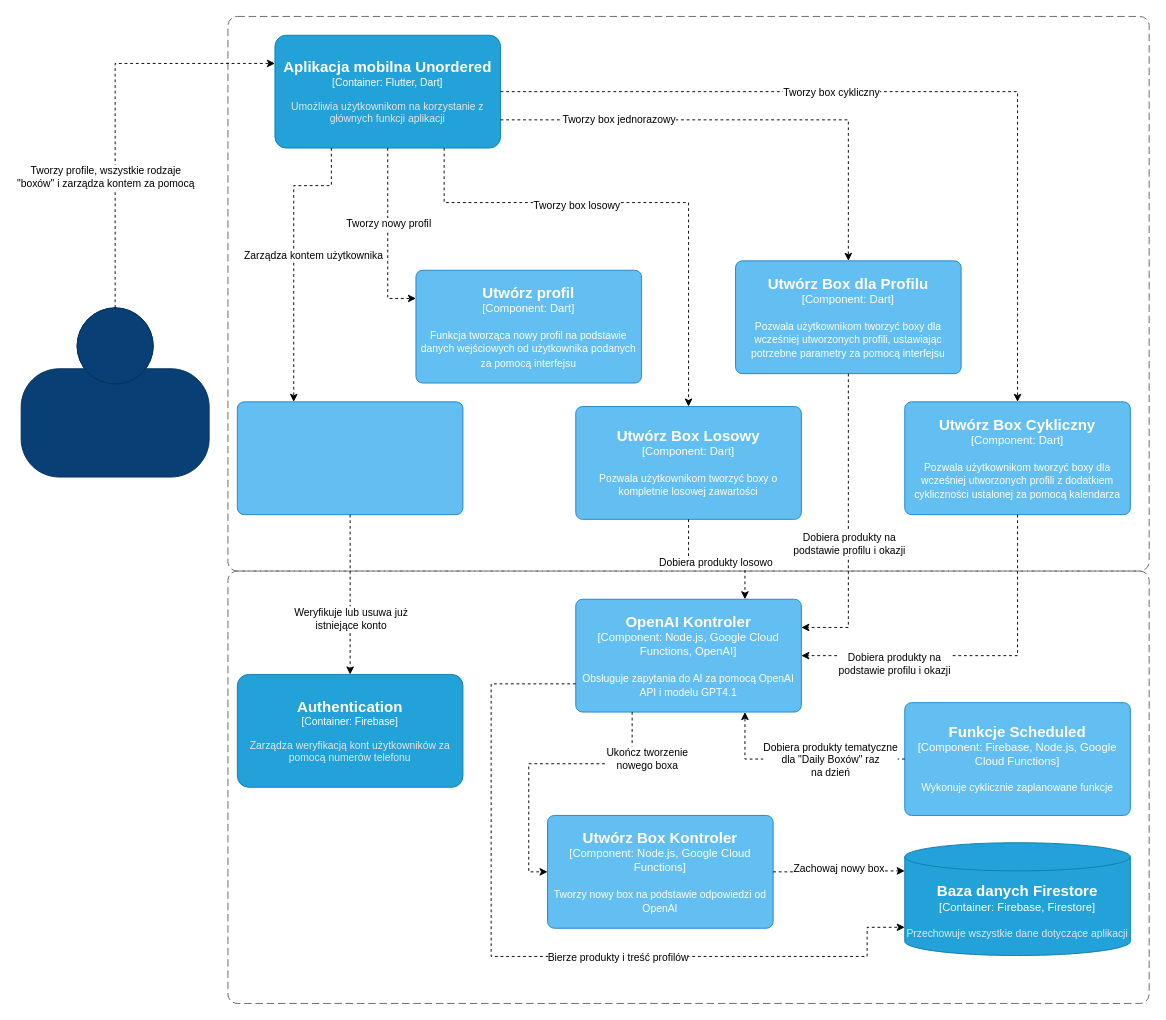
The diagram is 1166 pixels wide and 1020 high, and some of its shapes have lost their labels. Here are the shapes that lost their labels. From the top down, the box of each, then its label:
(227, 16, 1149, 571): Aplikacja mobilna Unordered [Software System]
(20, 307, 209, 477): Użytkownik [Person] Użytkownik aplikacji mobilnej Unordered
(236, 401, 463, 515): Zarządzanie kontem [Component: Dart] Pozwala na rejestrację lub usunięcie konta
(227, 570, 1149, 1003): Firebase [Software System]
